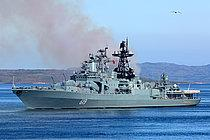MIL_Ship: (12, 37, 200, 107)
